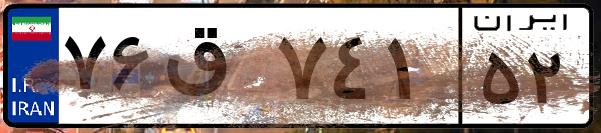1: (385, 28, 445, 110)
2: (525, 38, 570, 115)
4: (330, 28, 385, 110)
5: (475, 38, 525, 113)
6: (110, 28, 158, 98)
7: (270, 28, 330, 110), (57, 26, 110, 100)
ق: (158, 20, 270, 120)
